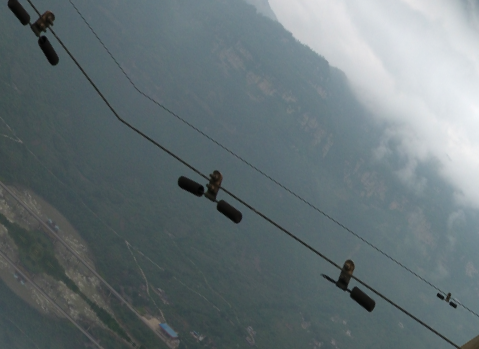damper: (175, 168, 244, 225), (7, 1, 65, 68), (434, 291, 458, 308)
damper_defect: (318, 257, 376, 315)
